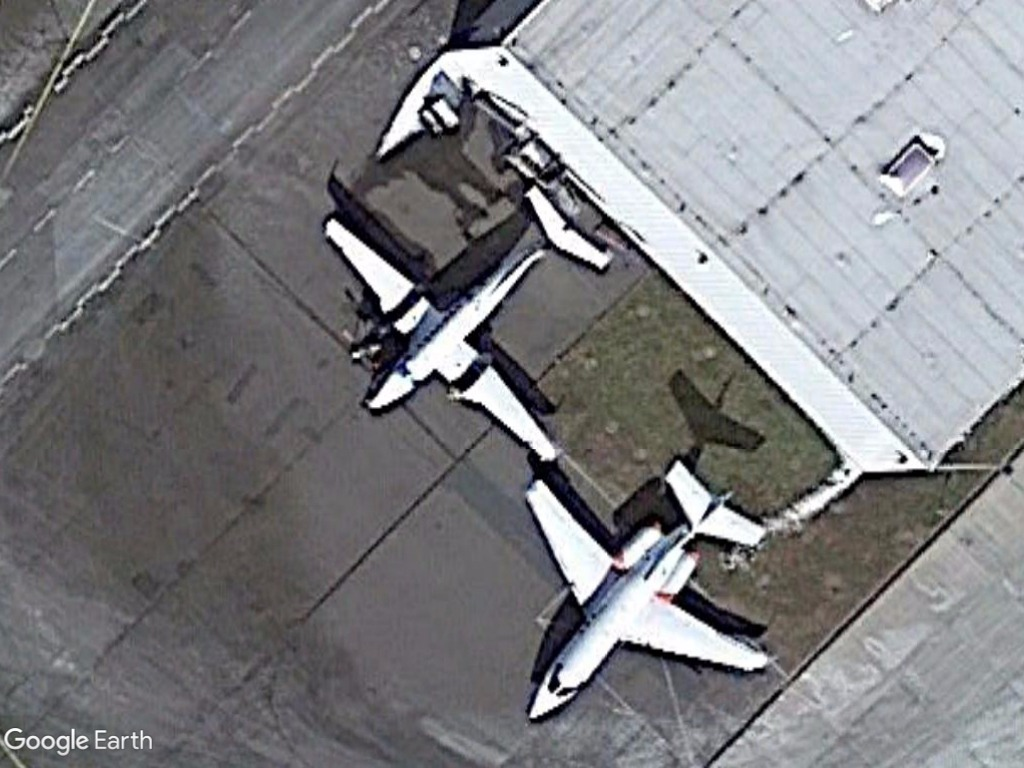chartered: (505, 455, 781, 723)
trainer: (312, 145, 619, 472)
